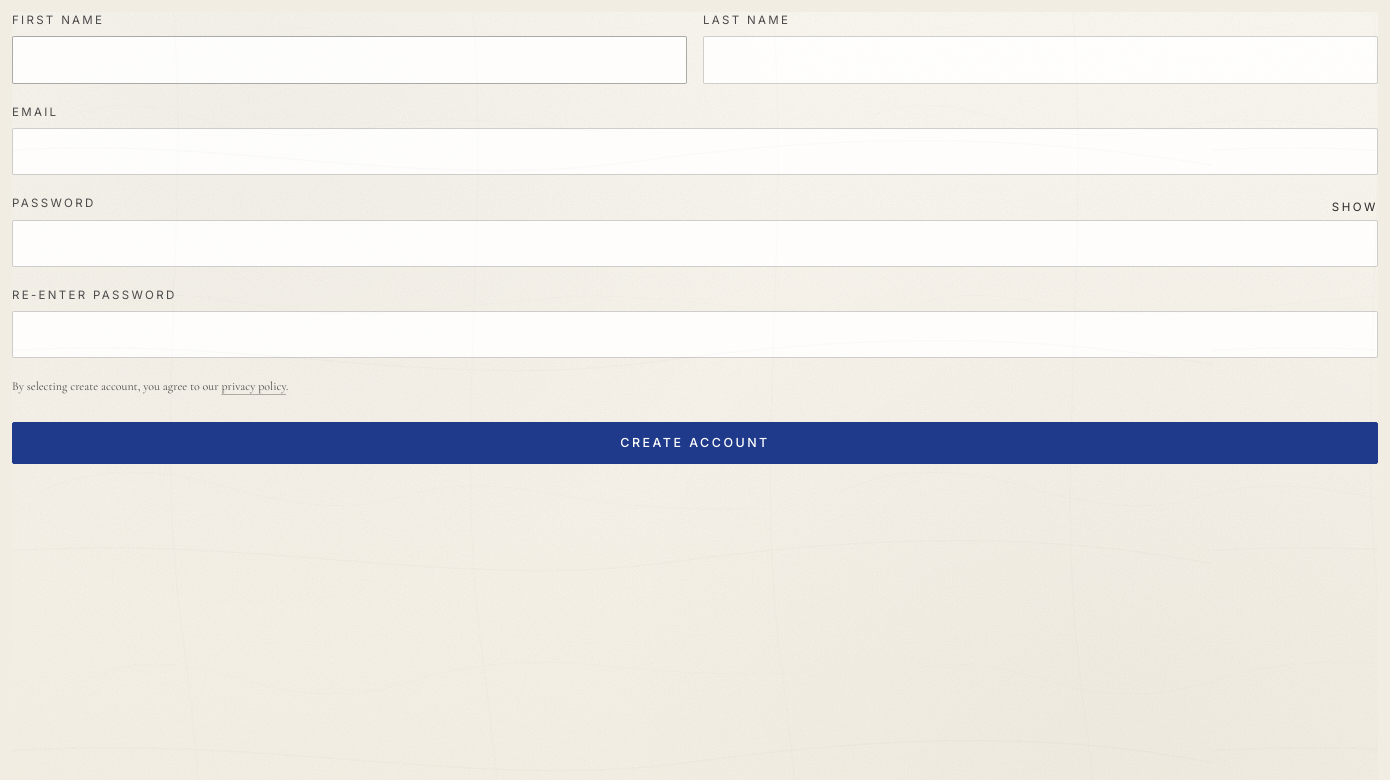
Test case: RegisterForm privacy notice › shows the spec-mandated red alert when the password is too weak
Type "weak" into the password field labelled "Password" at {"x": 695, "y": 243}, box x1=12 y1=220 x2=1378 y2=267
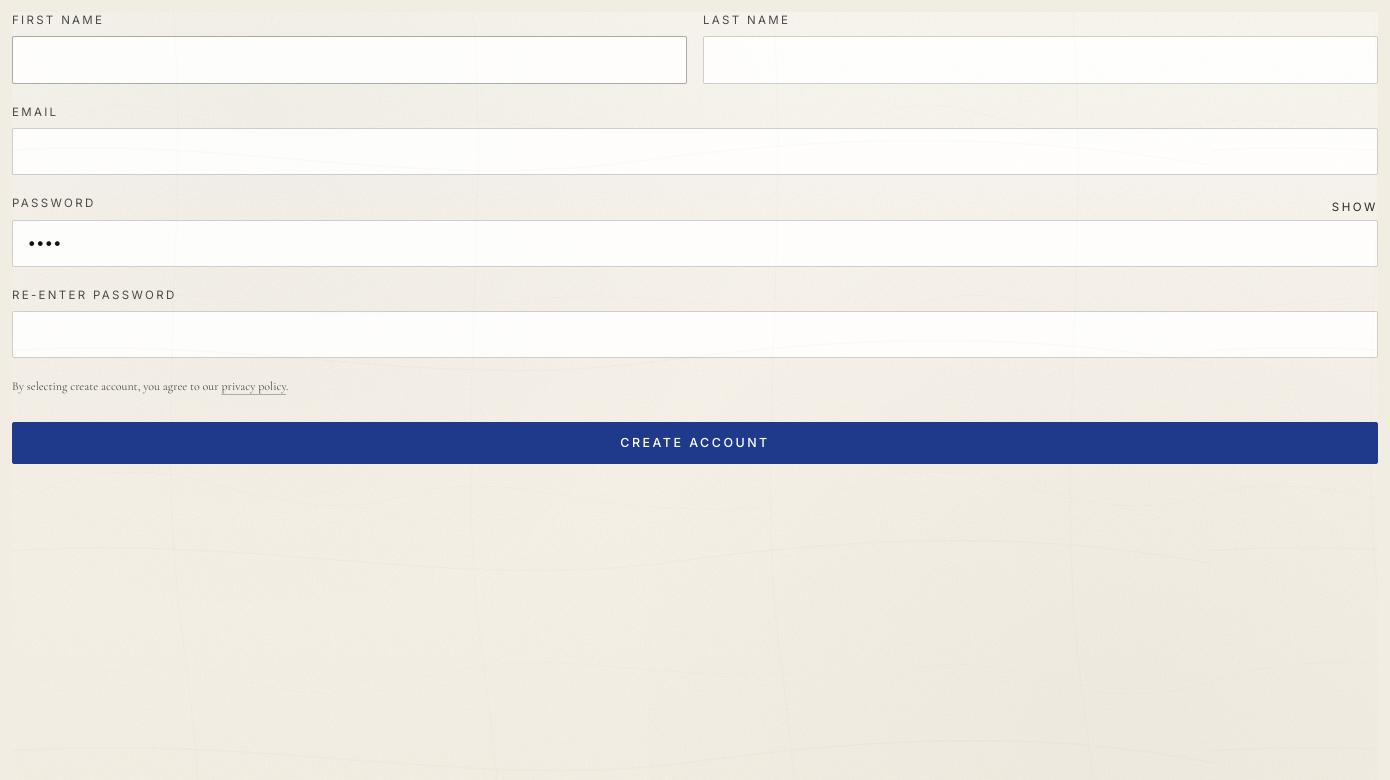
Leave the password field labelled "Password", box x1=12 y1=220 x2=1378 y2=267
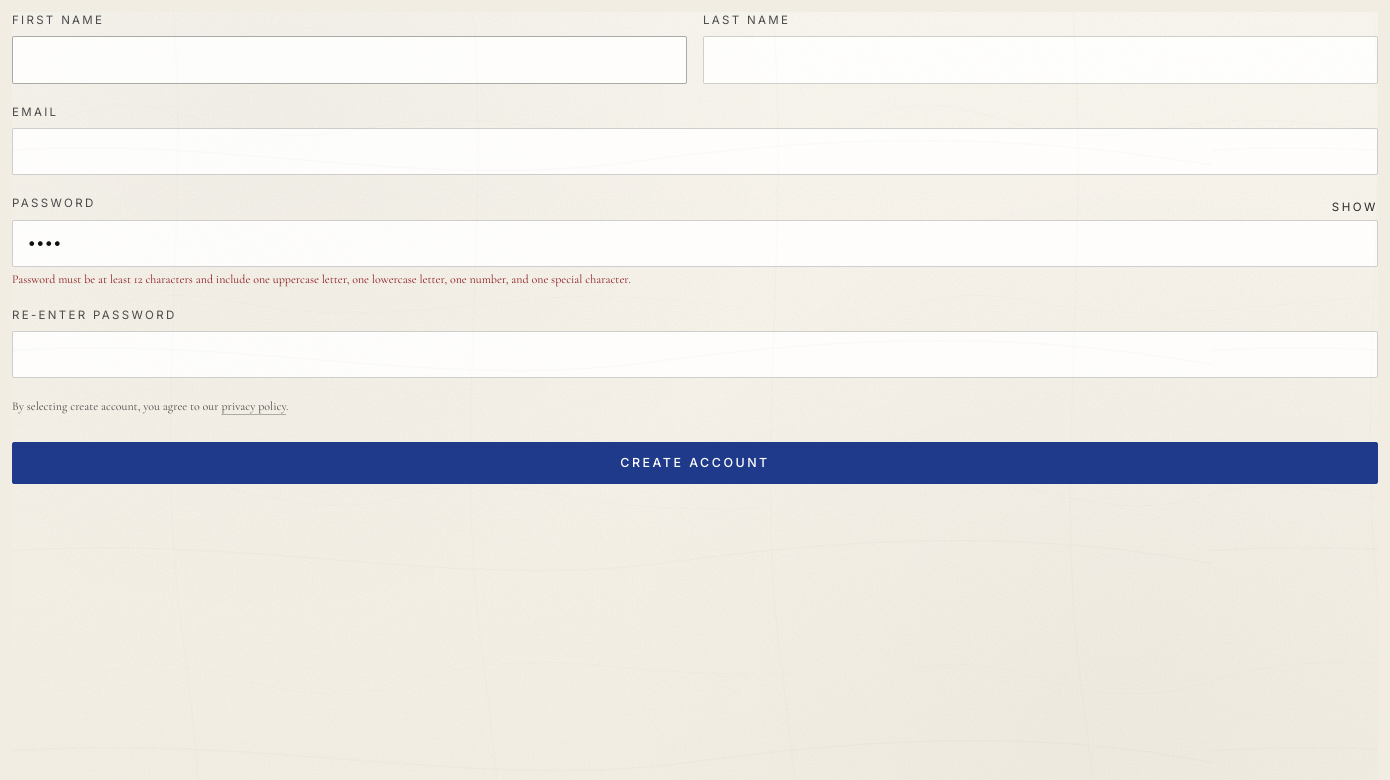
Expected: the text "Password must be at least 12 characters and include one uppercase letter, one lowercase letter, one number, and one spec" shows "special character", x1=12 y1=272 x2=631 y2=286
